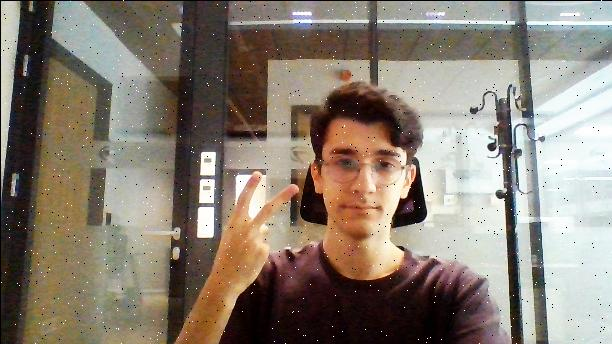Scissors: (210, 169, 300, 289)
